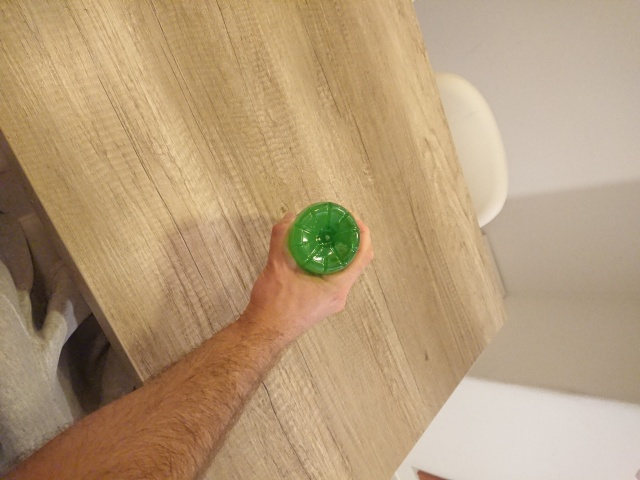Vindi Iso Sport Lemon-Grapefruit 500mL: (285, 199, 363, 278)
